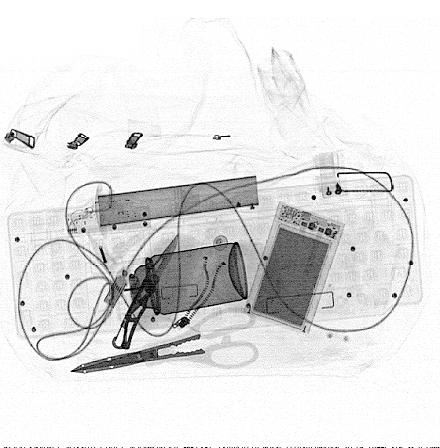Knife: (113, 230, 181, 350)
Powerbank: (244, 200, 346, 334)
Scissors: (69, 304, 258, 378)
Sprayer: (109, 242, 248, 323)
